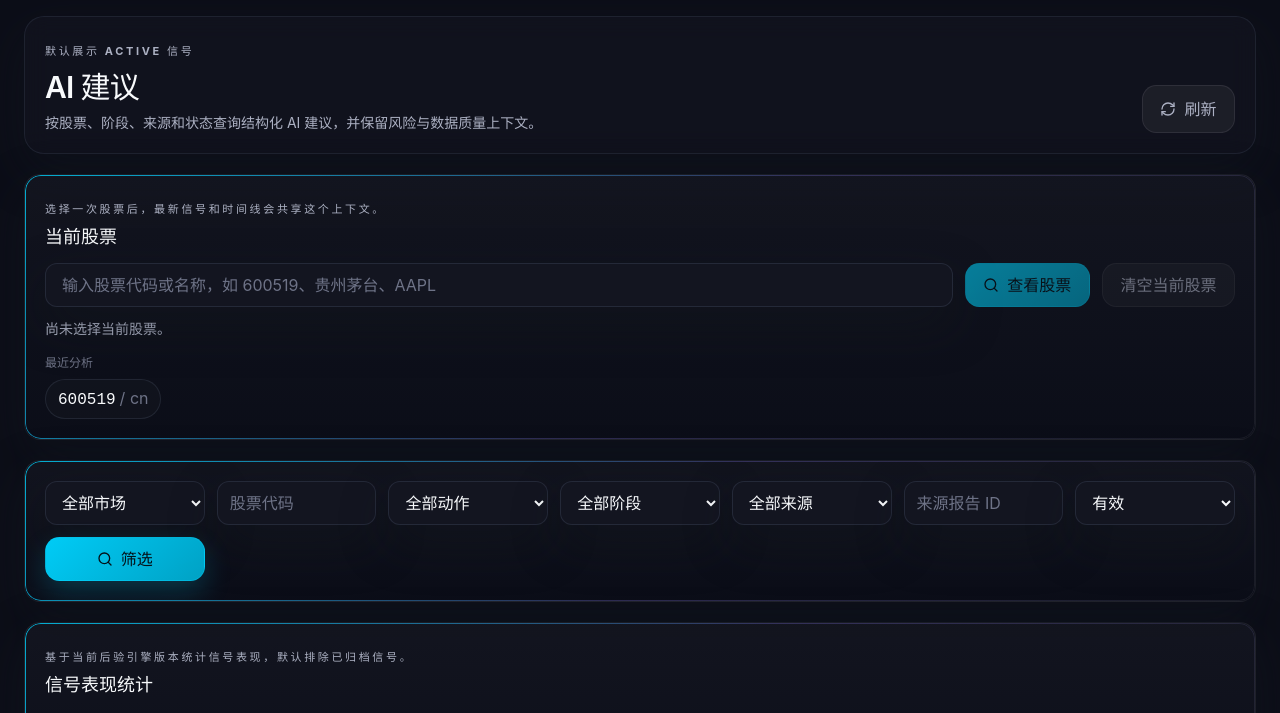
DecisionSignalsPage › shows recent history candidates and passes normalized market when a candidate is selected
Expected: the text "最近分析" is shown, [45,355,93,370]
What coordinates should you click on to do the following:
click the button "600519/ cn"
I would click on:
 (103, 399)
Its box is [45,379,162,419].
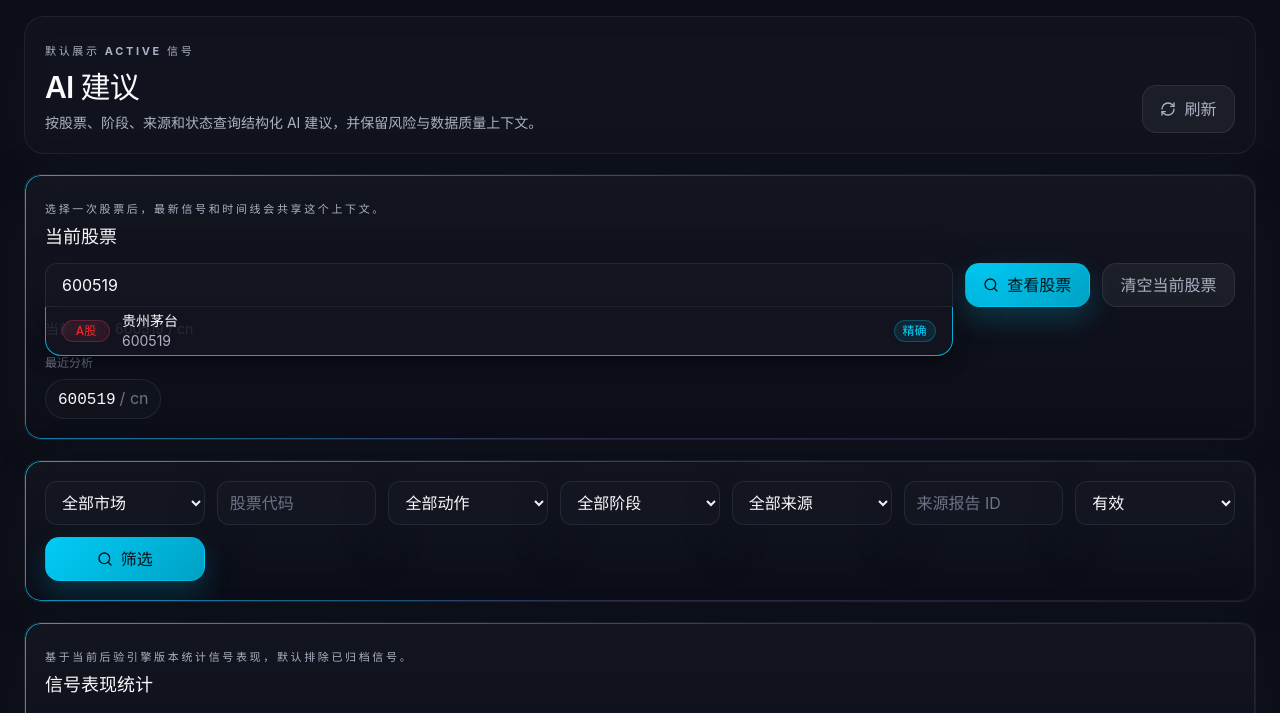
Result: the text "当前查看：600519 / cn" is shown at [45,320,193,337]
